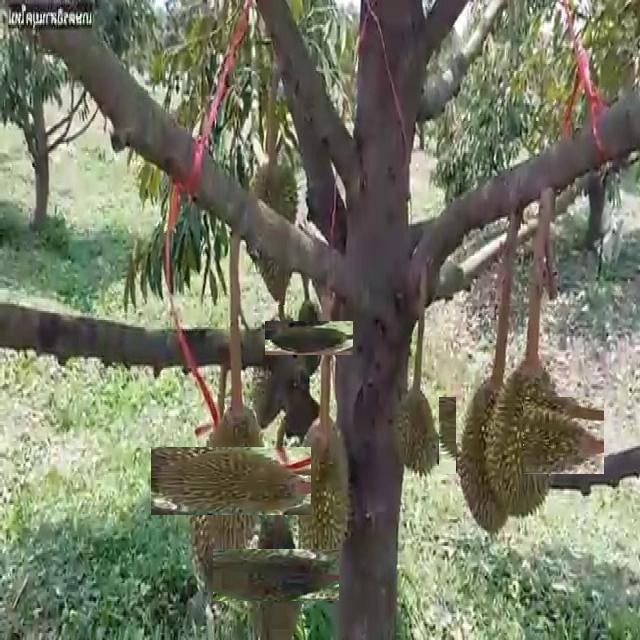durian: (460, 374, 582, 496), (173, 424, 288, 538), (456, 367, 523, 539), (296, 412, 350, 584), (242, 154, 300, 305), (231, 530, 320, 620), (393, 386, 439, 481), (278, 307, 339, 368)
